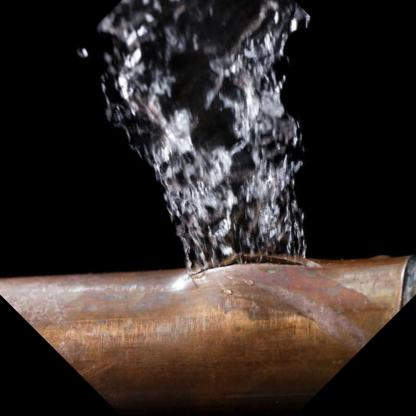burst: (174, 227, 327, 314)
